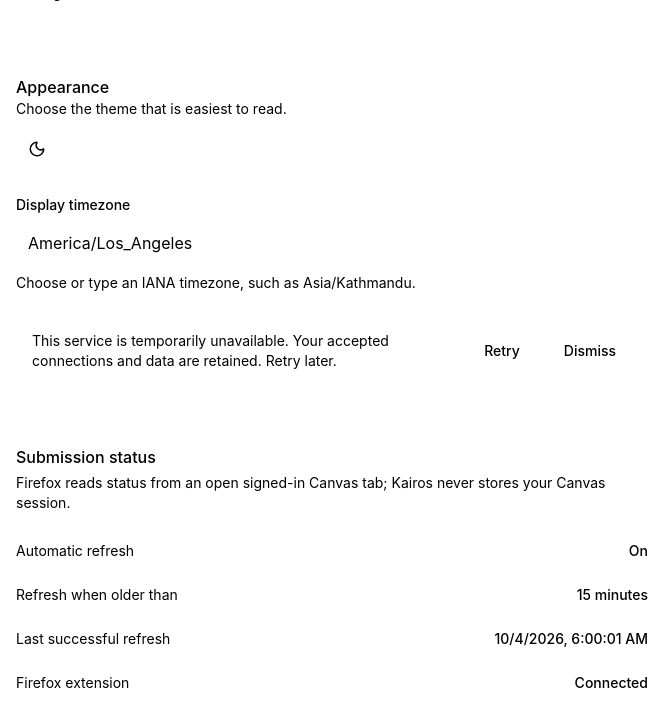
Test: retries a failed timezone read without overwriting the saved timezone
The width and height of the screenshot is (665, 709).
(page scrolled)
Check: the text "temporarily unavailable" is shown, box left=32, top=332, right=389, bottom=369
Click the button "Retry".
click(502, 351)  # box left=468, top=329, right=536, bottom=373
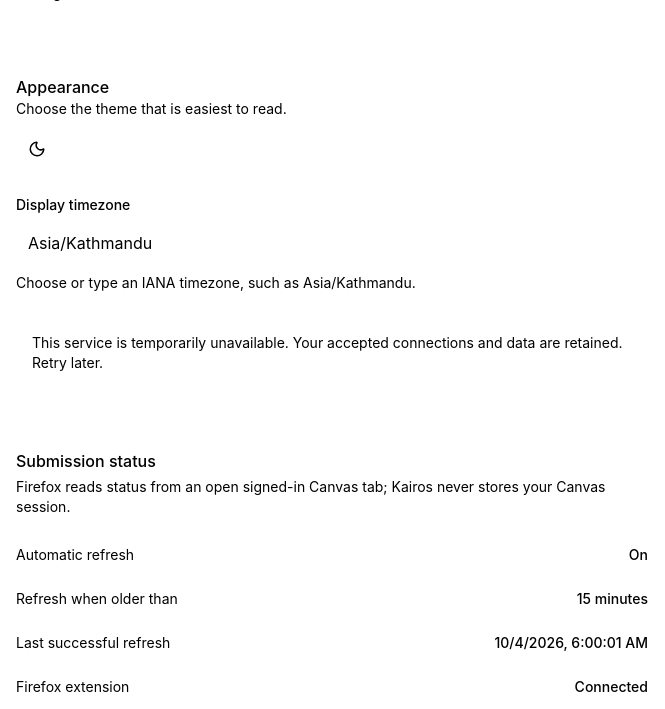
Check: the field labelled "Display timezone" holds "Asia/Kathmandu", box left=16, top=221, right=496, bottom=265
